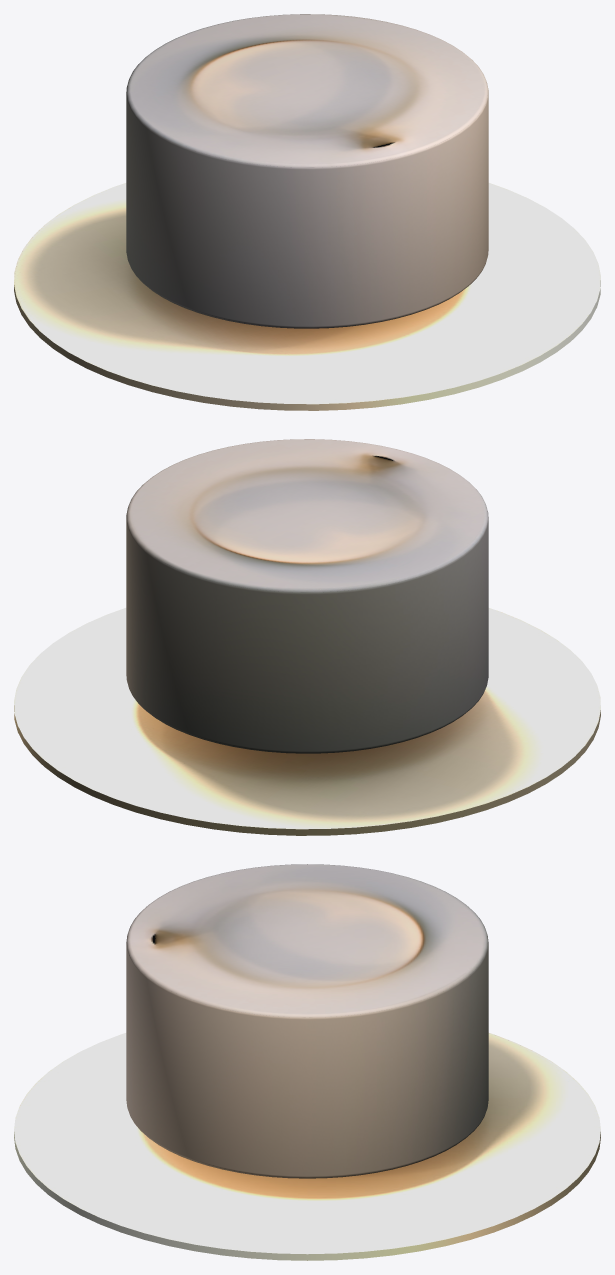
The model's file is RingPedestal.gltf.
The picture shows the model from 3 angles, top to bottom: view 1: azimuth 30°, elevation 25°; view 2: azimuth 150°, elevation 25°; view 3: azimuth 270°, elevation 25°; orthographic projection.
Parts seen in each view (by area): view 1: Stand, StandFoot; view 2: Stand, StandFoot; view 3: Stand, StandFoot.
Boxes of the visible parts, x1,y1,x2,y2 form: Stand: [126, 14, 488, 328]; StandFoot: [14, 183, 600, 410]; Stand: [126, 439, 488, 753]; StandFoot: [14, 608, 600, 835]; Stand: [126, 864, 488, 1178]; StandFoot: [14, 1033, 600, 1260].
Bounding box in the file's own units: 4.9 × 1.82 × 4.9.
